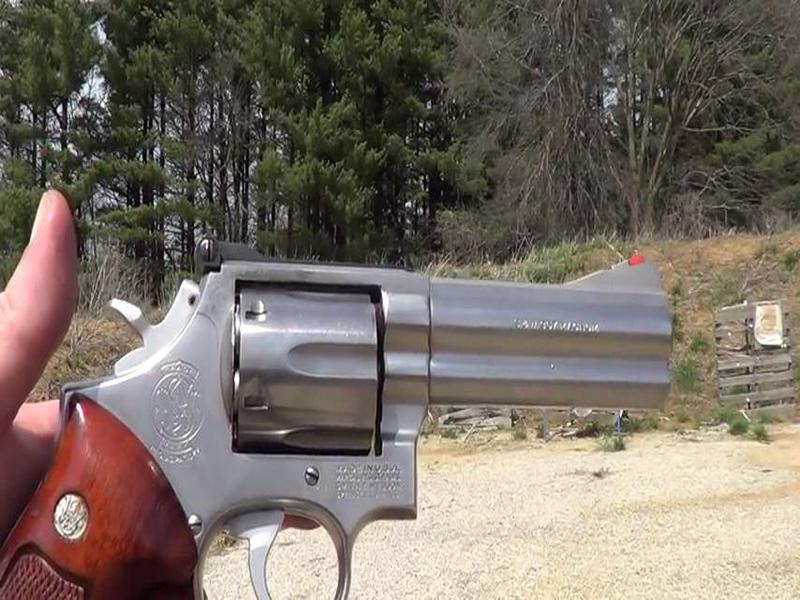Revolver: (53, 225, 679, 590)
